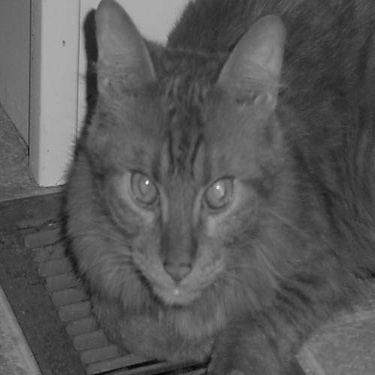cat: (66, 1, 373, 372)
